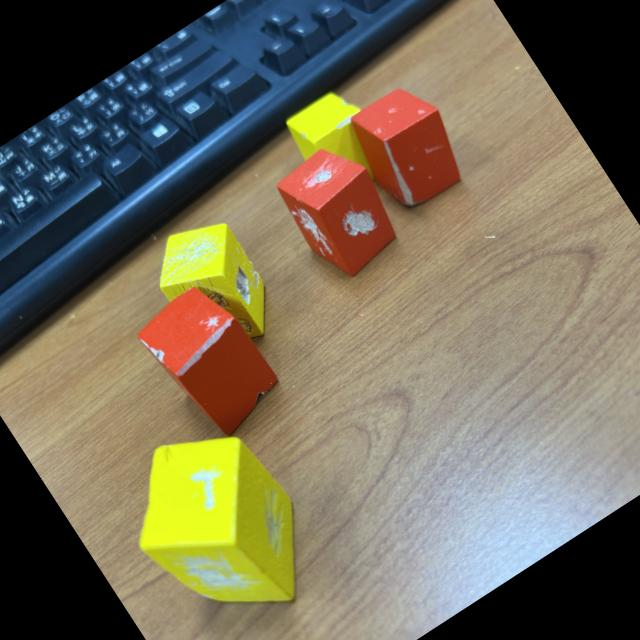broken: (97, 400, 339, 640), (129, 272, 290, 448), (137, 203, 290, 370), (267, 130, 416, 289), (338, 74, 477, 220), (278, 79, 398, 206)
